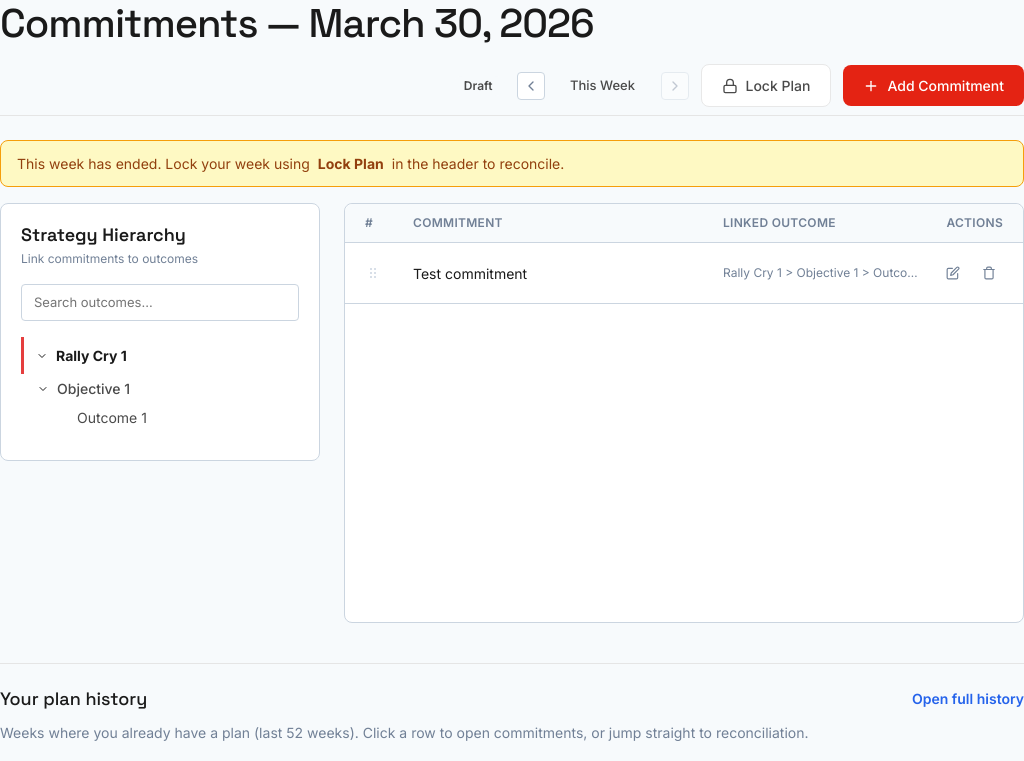
Test case: WeeklyPlanningPage › opens the commitment form when Add Commitment is clicked
Step 1. Click the button "Add Commitment" → [934, 86], box left=843, top=65, right=1023, bottom=106
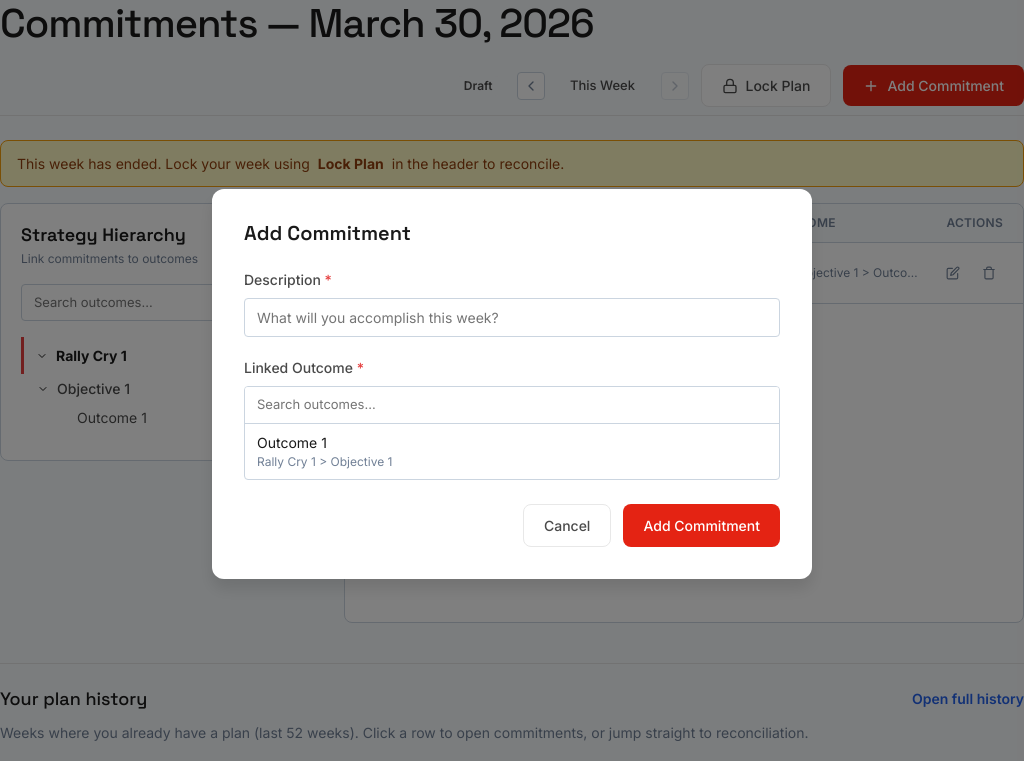
Now the heading "Add Commitment" is shown, box left=244, top=220, right=411, bottom=246
